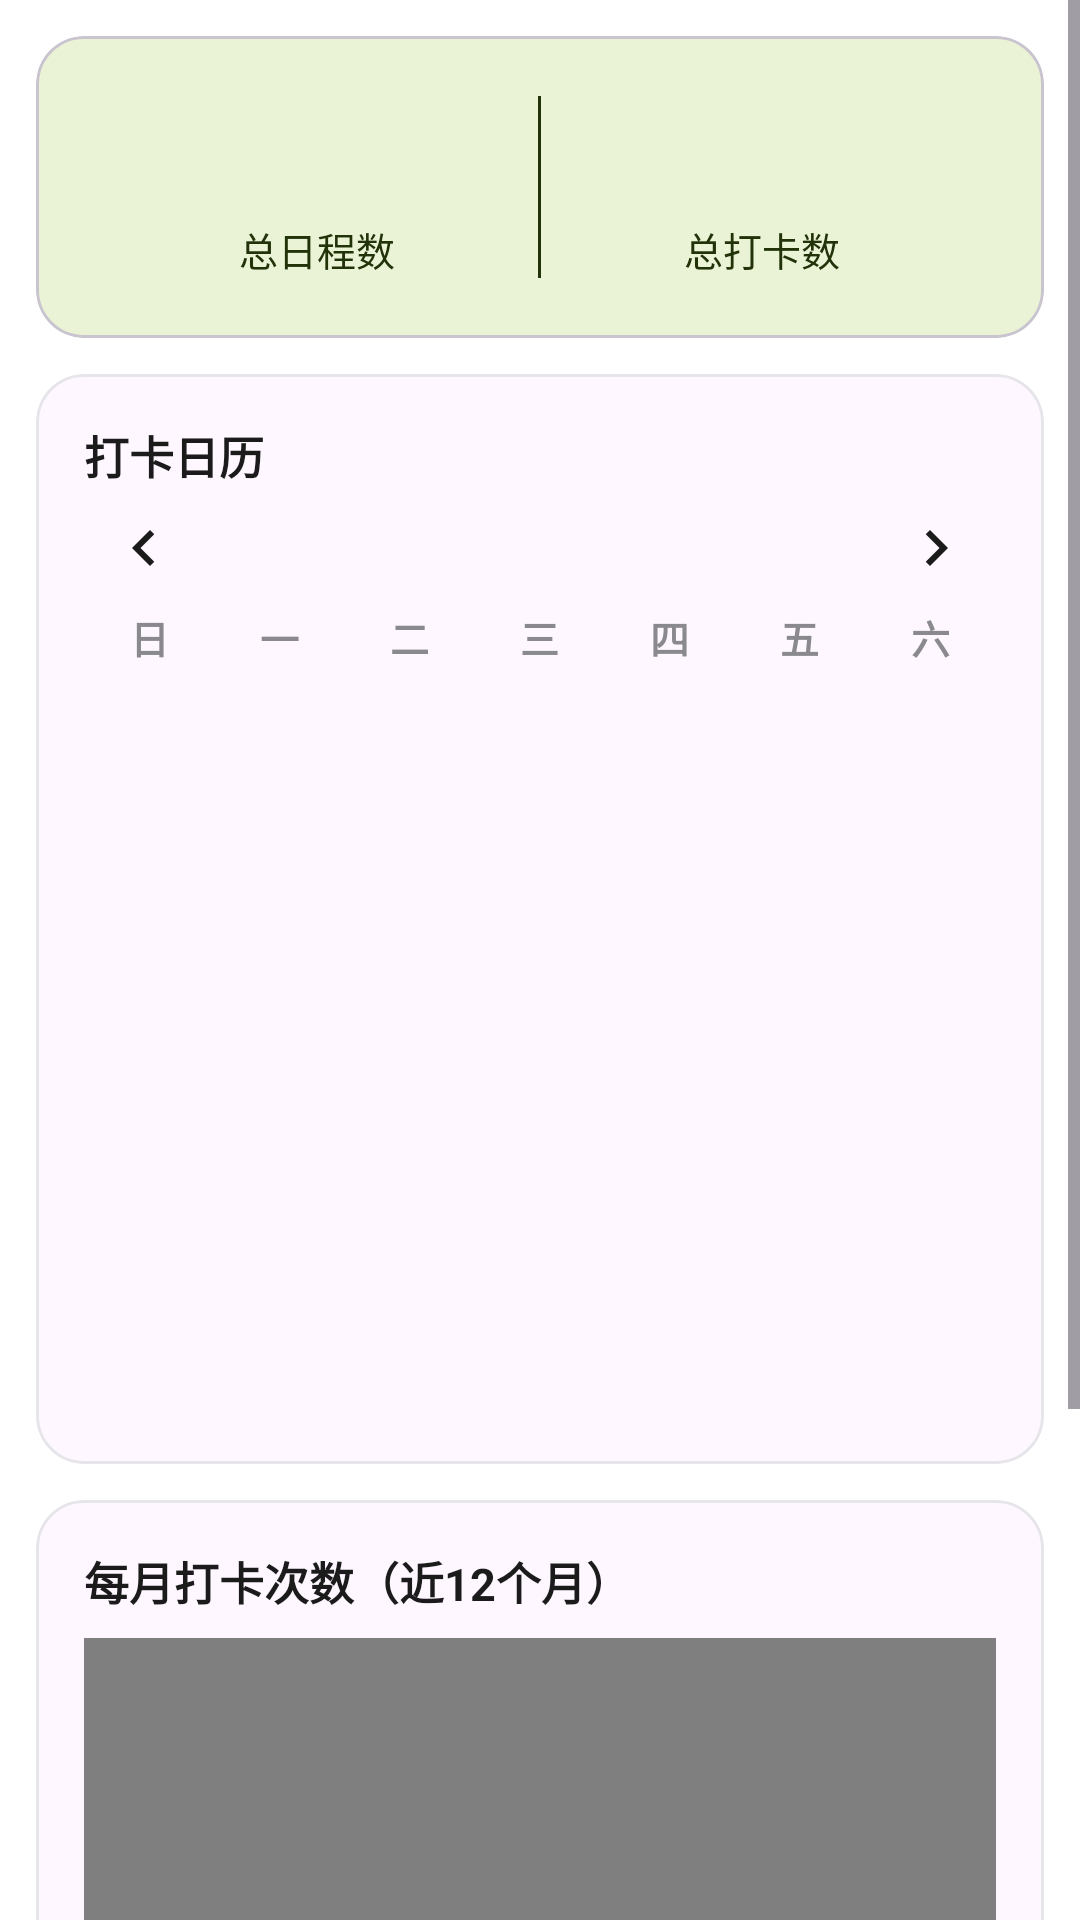

Where icons sit on this 1080×1920 app screen, as (x1, y1, x2, y2):
上个月: (132, 530, 154, 566)
下个月: (926, 530, 948, 566)
